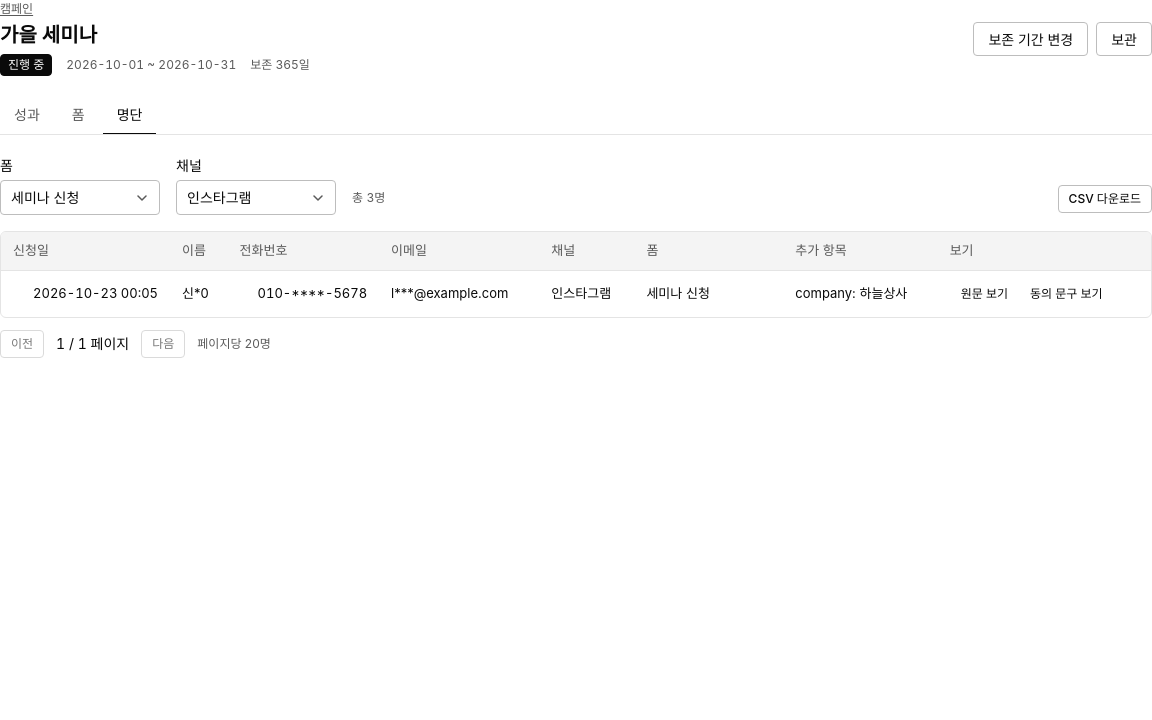
명단 CSV 다운로드 › 원문 확인 대화상자는 지금 필터 범위(폼·채널)를 알려준다
Expected: the text "신*0" is shown, [170,270,228,316]
Click the button "CSV 다운로드" at (1105, 199), box [1058,185,1151,213]
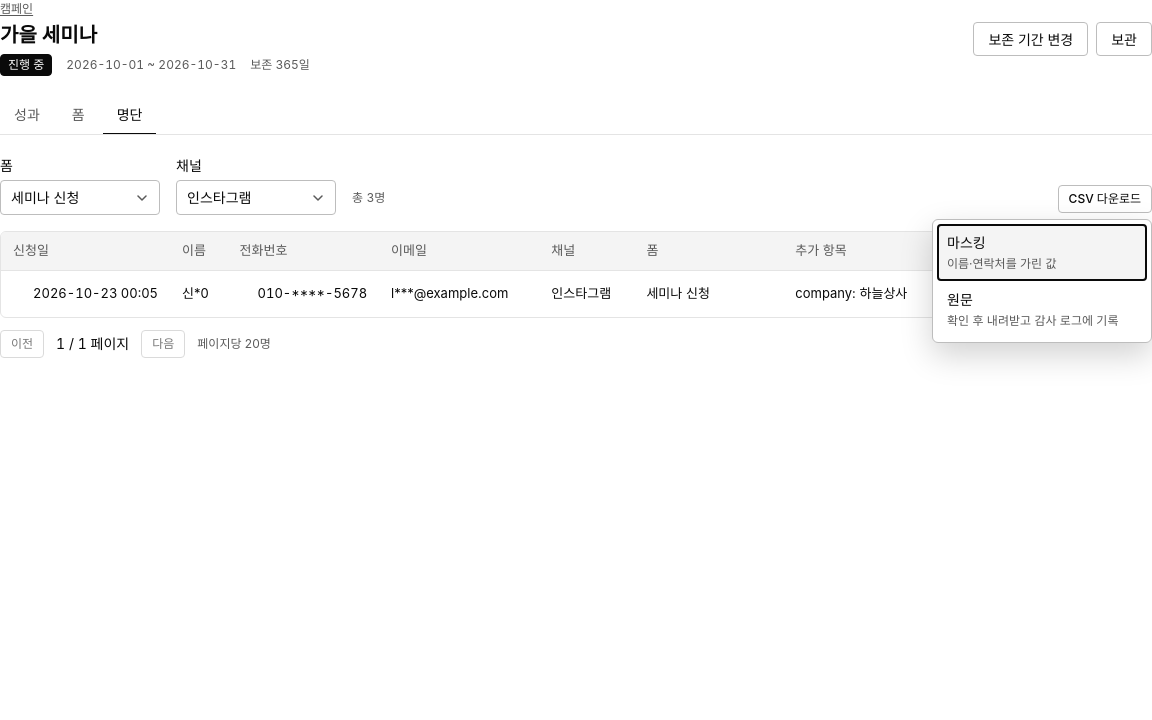
Click the menu item "원문 확인 후 내려받고 감사 로그에 기록" at (1042, 310), box [937,281,1147,338]
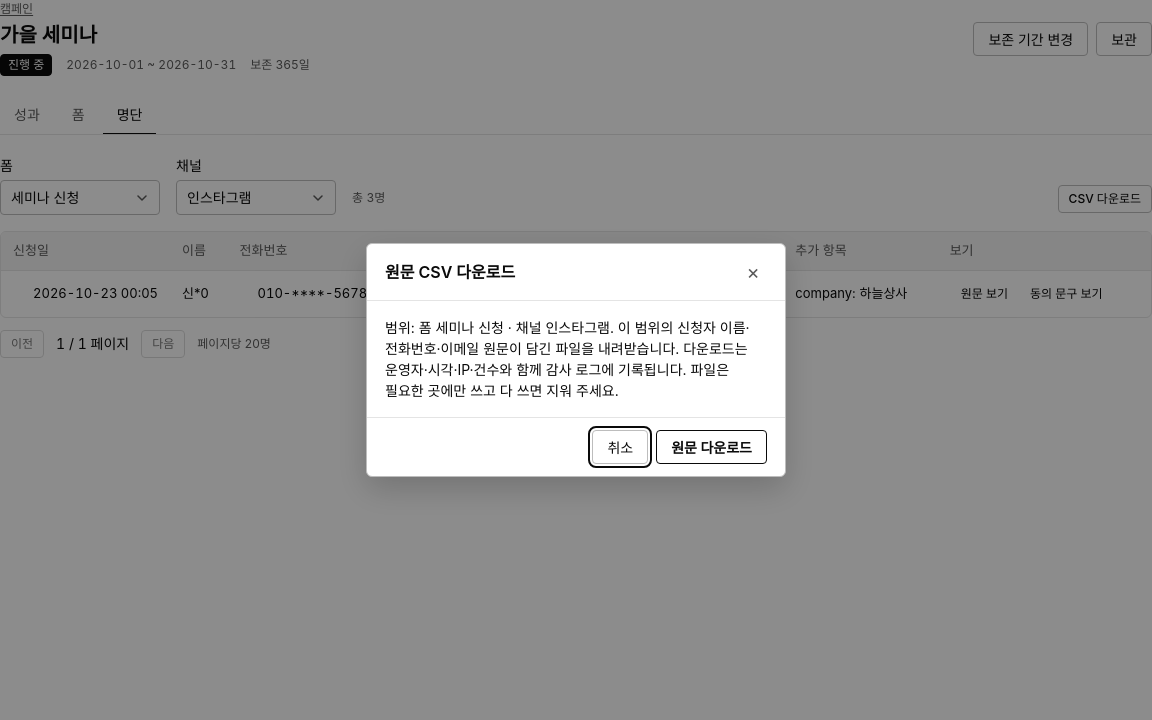
Expected: the dialog "원문 CSV 다운로드" shows "범위: 폼 세미나 신청 · 채널 인스타그램.", [385,319,750,399]
